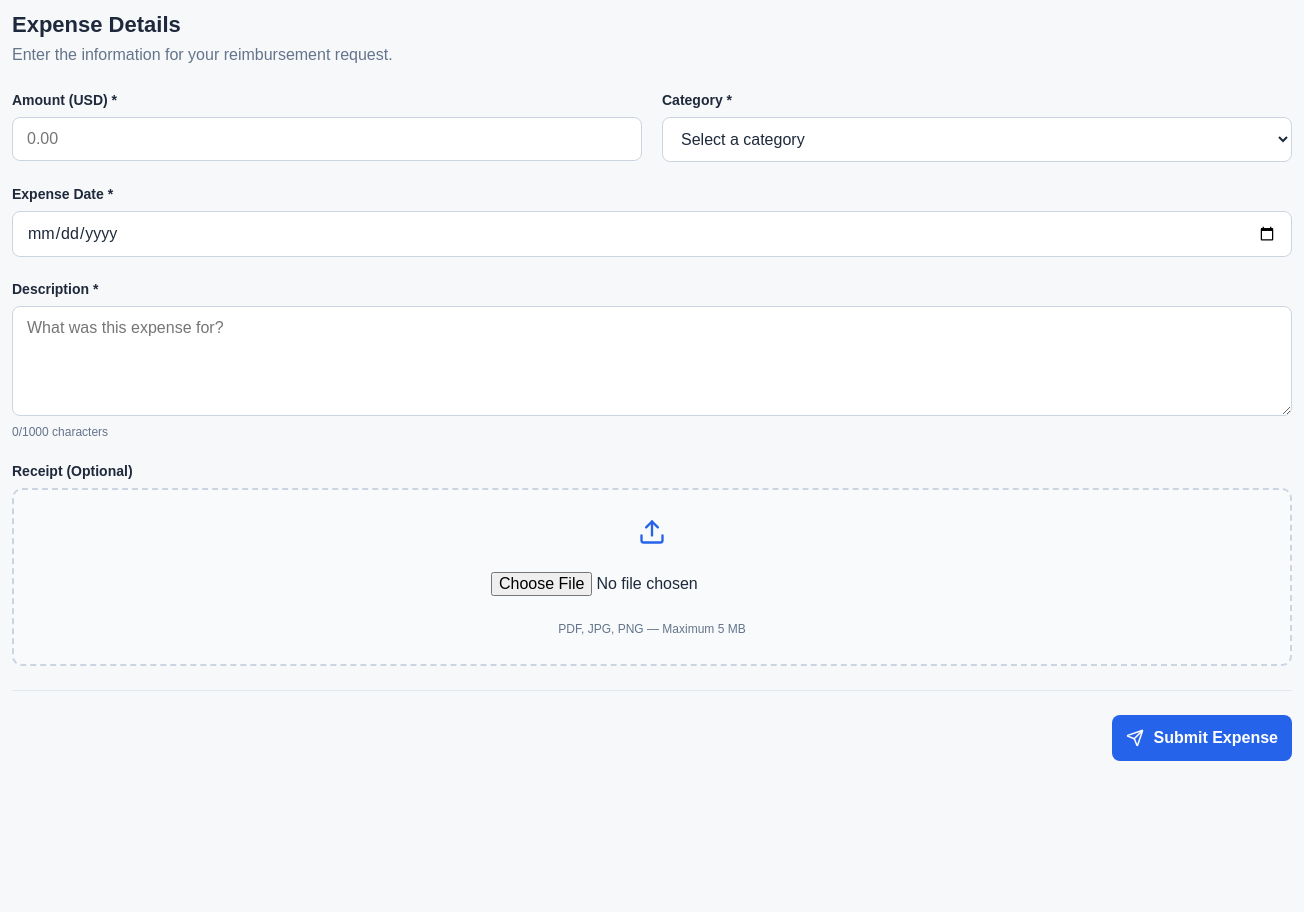
Test: ExpenseForm › submits a valid expense successfully
Type "25.50" into the number field labelled "Amount (USD) *" at x=327, y=139, box [12,117,642,161]
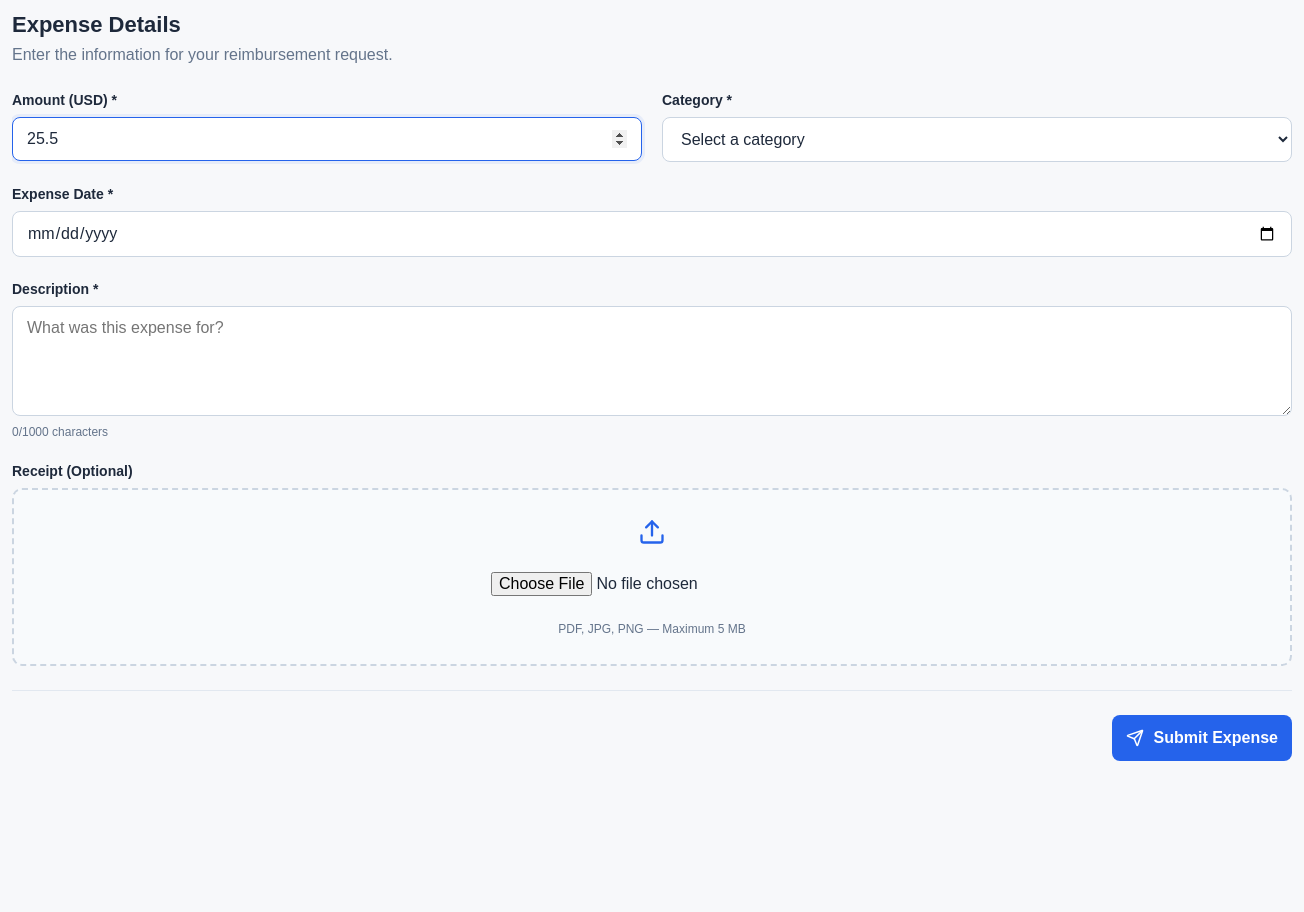
Select "Meals" in the dropdown labelled "Category *" at x=977, y=140, box [662,117,1292,162]
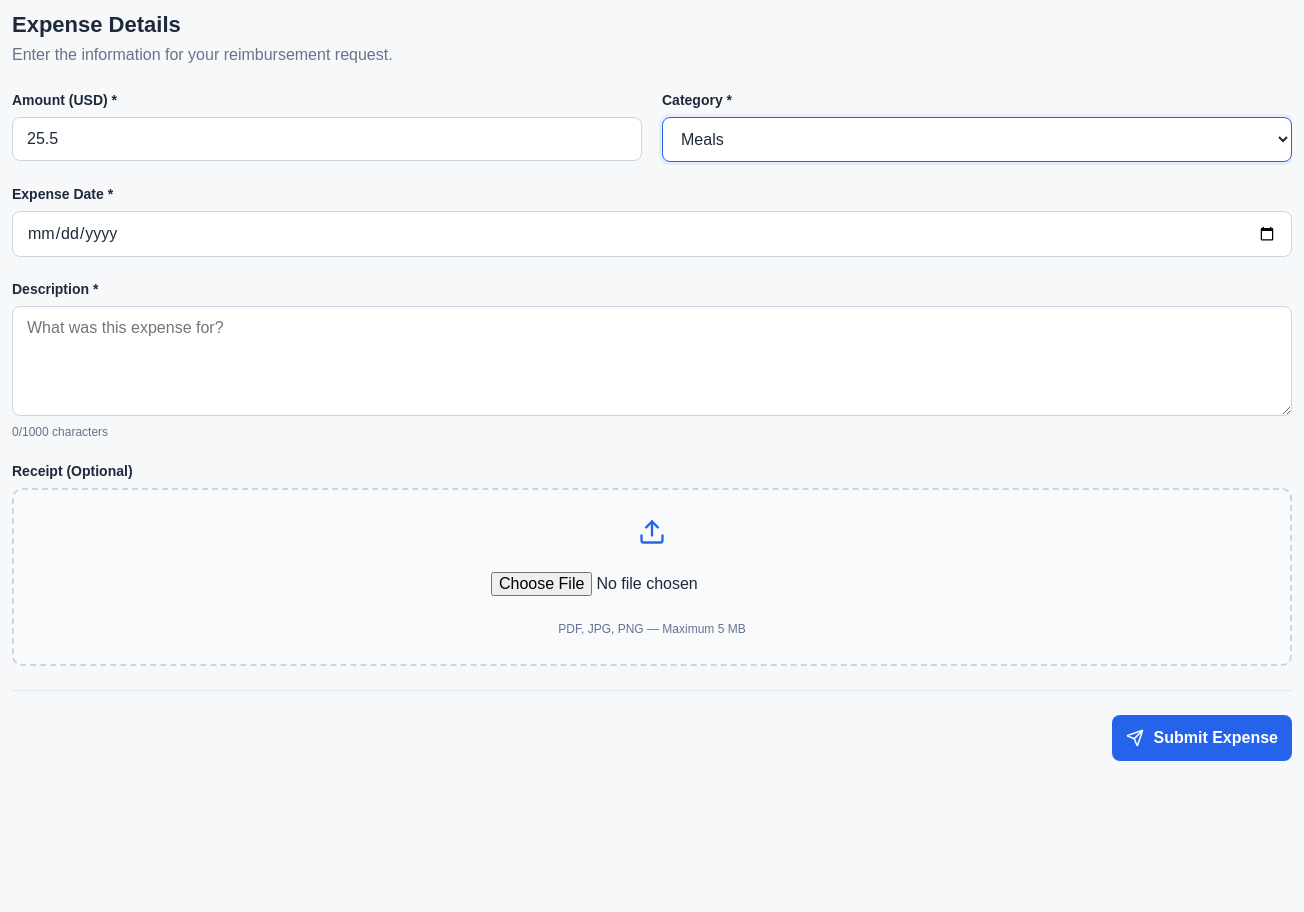
Type "2025-01-01" into the date field labelled "Expense Date *" at x=652, y=234, box [12,211,1292,257]
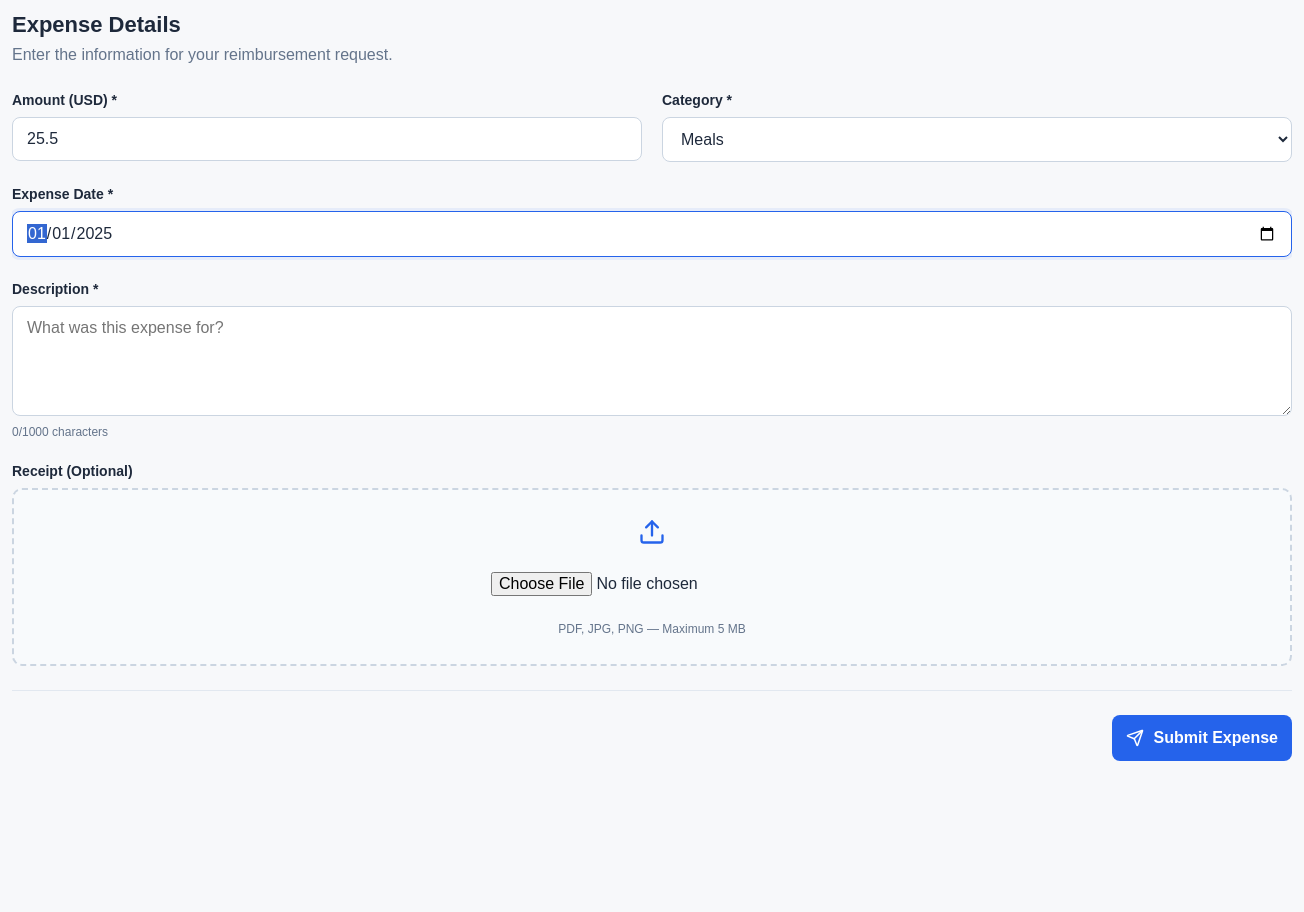
Type "Team lunch" into the text box labelled "Description *" at x=652, y=361, box [12,306,1292,416]
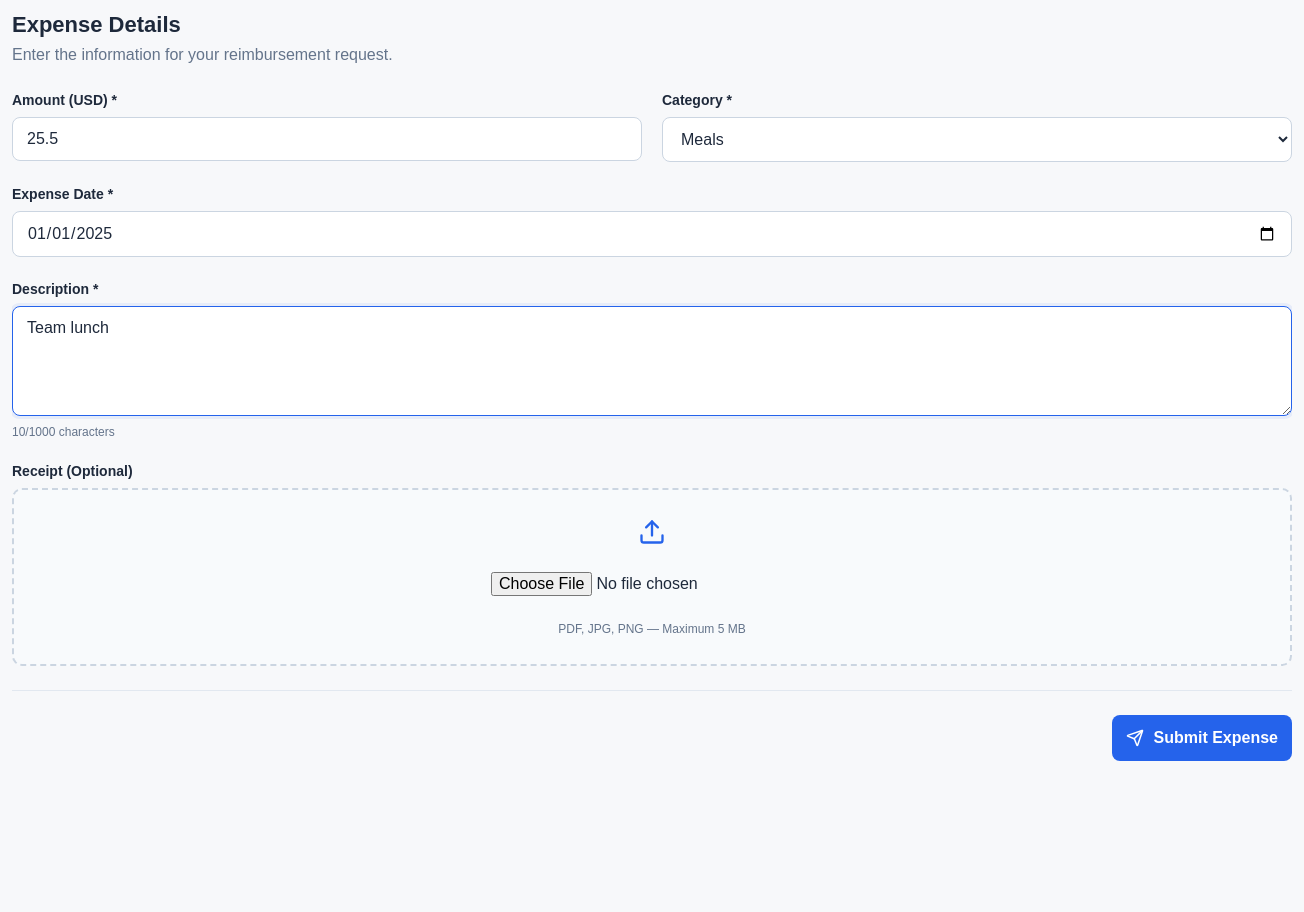
Click the button "Submit Expense" at x=1202, y=738, box [1112,715,1292,761]
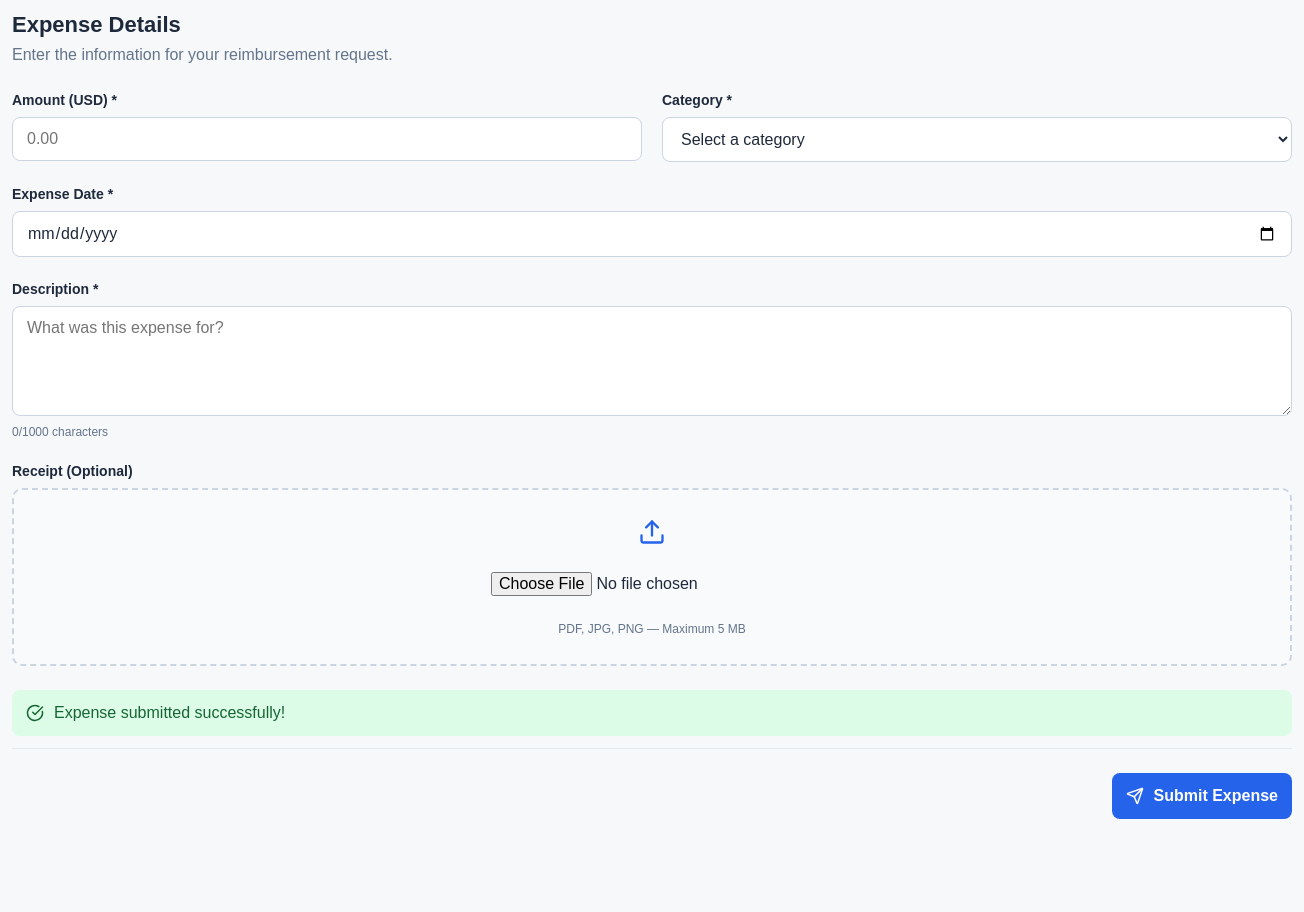
Expected: the message shows "submitted successfully", [54,704,285,721]
